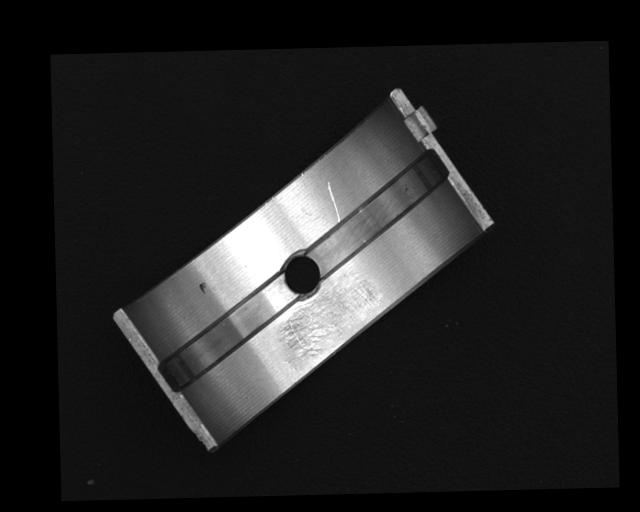bruise: (198, 281, 207, 295)
gap: (299, 157, 449, 270), (155, 279, 295, 388)
hole: (280, 253, 322, 296)
nick: (328, 180, 339, 223)
scratch: (280, 270, 381, 358)
